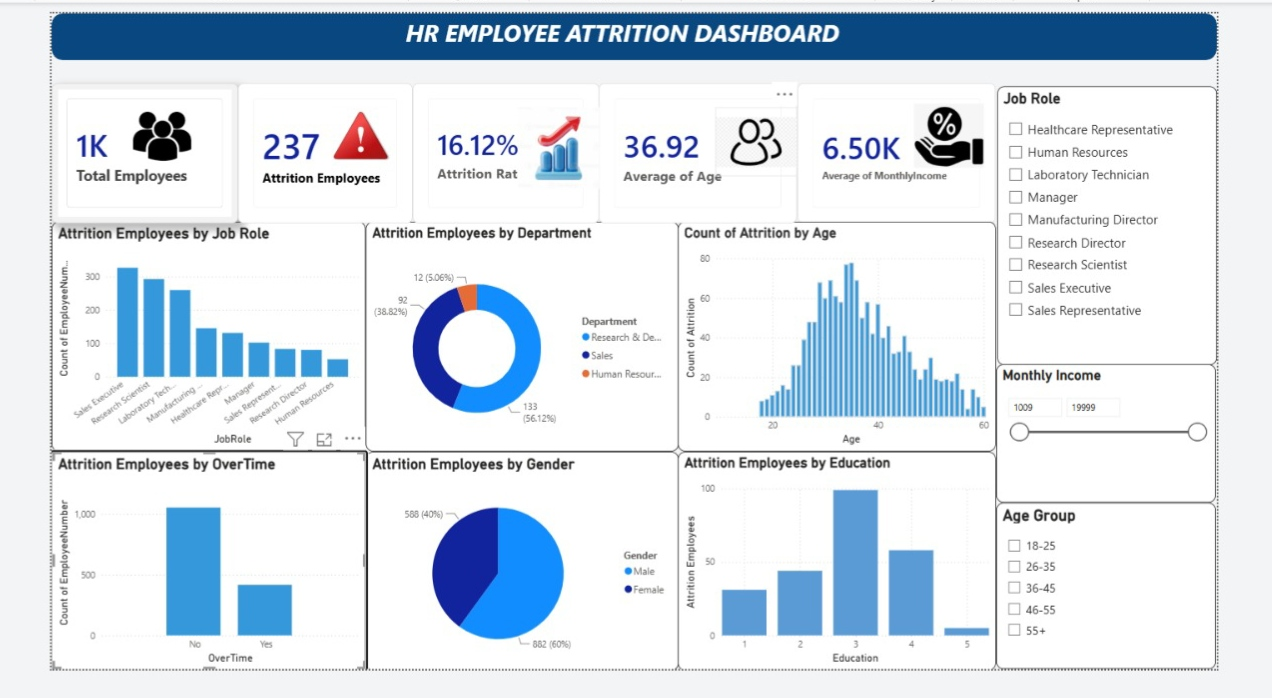

The page's visual inventory and layout, read from the dashboard file:
{"tool":"powerbi","page":{"name":"Page 2","canvas":[1600,900],"ordinal":1},"visuals":[{"type":"donutChart","title":"Attrition Employees by Department","fields":{"Category":["HR_Employee.Department"],"Y":["HR_Employee.Attrition Count"]},"box":[431.2,285.7,429.4,315.5],"z":0},{"type":"clusteredColumnChart","title":"Attrition Employees by Job Role","fields":{"Y":["CountNonNull(HR_Employee.EmployeeNumber)"],"Category":["HR_Employee.JobRole"]},"box":[0,285.7,431.2,315.5],"z":1000},{"type":"pieChart","title":"Attrition Employees by Gender","fields":{"Category":["HR_Employee.Gender"],"Y":["CountNonNull(HR_Employee.EmployeeNumber)"]},"box":[431.2,601.2,429.4,299.7],"z":2000},{"type":"clusteredColumnChart","title":"Attrition Employees  by OverTime","fields":{"Category":["HR_Employee.OverTime"],"Y":["CountNonNull(HR_Employee.EmployeeNumber)"]},"box":[0,601.2,431.2,299.7],"z":3000},{"type":"cardVisual","fields":{"Data":["HR_Employee.Total Employees"]},"box":[0,96,256,192],"z":4000},{"type":"cardVisual","fields":{"Data":["HR_Employee.Attrition Employees"]},"box":[256,96,240,192],"z":5000},{"type":"cardVisual","fields":{"Data":["HR_Employee.Attrition Rate"]},"box":[496,96,256,192],"z":6000},{"type":"cardVisual","fields":{"Data":["Avg(HR_Employee.MonthlyIncome)"]},"box":[1024,96,272,192],"z":7000},{"type":"slicer","title":"Job Role","fields":{"Values":["HR_Employee.JobRole"]},"box":[1298.9,99.9,301.5,382.1],"z":8000},{"type":"clusteredColumnChart","fields":{"Category":["HR_Employee.Education"],"Y":["HR_Employee.Attrition Employees"]},"box":[860.6,601.2,436.5,299.7],"z":10000},{"type":"slicer","title":"Age Group","fields":{"Values":["HR_Employee.Age Group"]},"box":[1297.1,671.3,301.5,227.9],"z":11000},{"type":"clusteredColumnChart","fields":{"Category":["HR_Employee.Age"],"Y":["CountNonNull(HR_Employee.Attrition)"]},"box":[860.6,285.7,436.5,315.5],"z":12000},{"type":"slicer","title":"Monthly Income","fields":{"Values":["HR_Employee_data.MonthlyIncome"]},"box":[1297.1,482,301.5,189.3],"z":13000},{"type":"cardVisual","fields":{"Data":["Avg(HR_Employee_data.Age)"]},"box":[752,96,272,192],"z":14000},{"type":"shape","box":[0,0,1600,64],"z":15000},{"type":"textbox","box":[80,0,1408,64],"z":16000},{"type":"image","box":[96,128,112,80],"z":17000},{"type":"image","box":[384,112,80,112],"z":18000},{"type":"image","box":[640,128,112,112],"z":19000},{"type":"image","box":[912,128,112,96],"z":20000},{"type":"image","box":[1184,96,96,144],"z":21000}]}

Visuals, with their boxes in screenshot pixels (x1, y1, x2, y2), scaled from the page's 1600x900 canvas onto the 1272x698 screenshot:
"Attrition Employees by Department" donutChart: 343 222 684 466
"Attrition Employees by Job Role" clusteredColumnChart: 0 222 343 466
"Attrition Employees by Gender" pieChart: 343 466 684 697
"Attrition Employees  by OverTime" clusteredColumnChart: 0 466 343 697
cardVisual - HR_Employee.Total Employees: 0 74 204 223
cardVisual - HR_Employee.Attrition Employees: 204 74 394 223
cardVisual - HR_Employee.Attrition Rate: 394 74 598 223
cardVisual - Avg(HR_Employee.MonthlyIncome): 814 74 1030 223
"Job Role" slicer: 1033 77 1271 374
clusteredColumnChart - HR_Employee.Education x HR_Employee.Attrition Employees: 684 466 1031 697
"Age Group" slicer: 1031 521 1271 697
clusteredColumnChart - HR_Employee.Age x CountNonNull(HR_Employee.Attrition): 684 222 1031 466
"Monthly Income" slicer: 1031 374 1271 521
cardVisual - Avg(HR_Employee_data.Age): 598 74 814 223
shape: 0 0 1271 50
textbox: 64 0 1183 50
image: 76 99 165 161
image: 305 87 369 174
image: 509 99 598 186
image: 725 99 814 174
image: 941 74 1018 186
